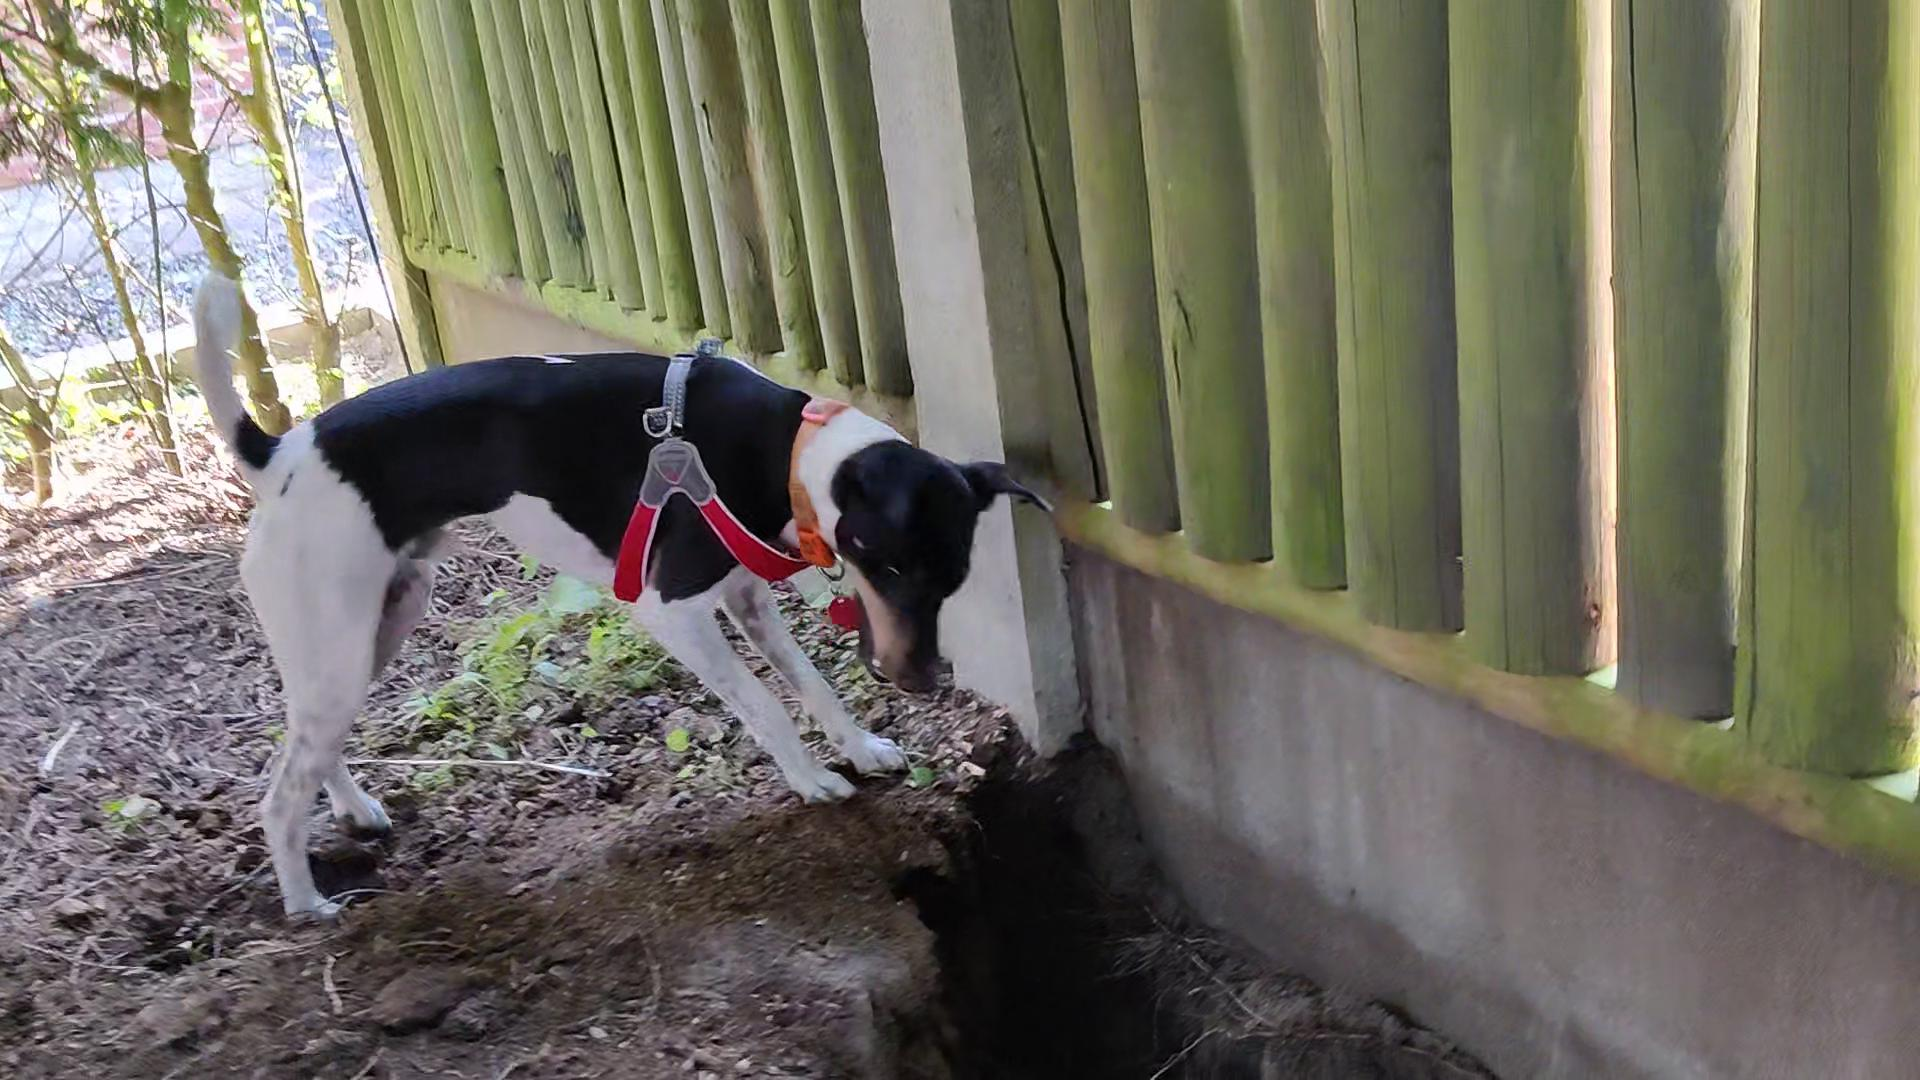Dog: (138, 253, 1076, 930)
